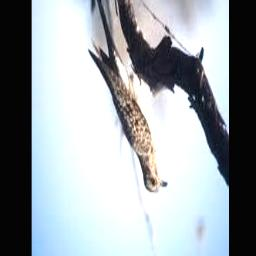Cuckoo: (88, 0, 167, 193)
